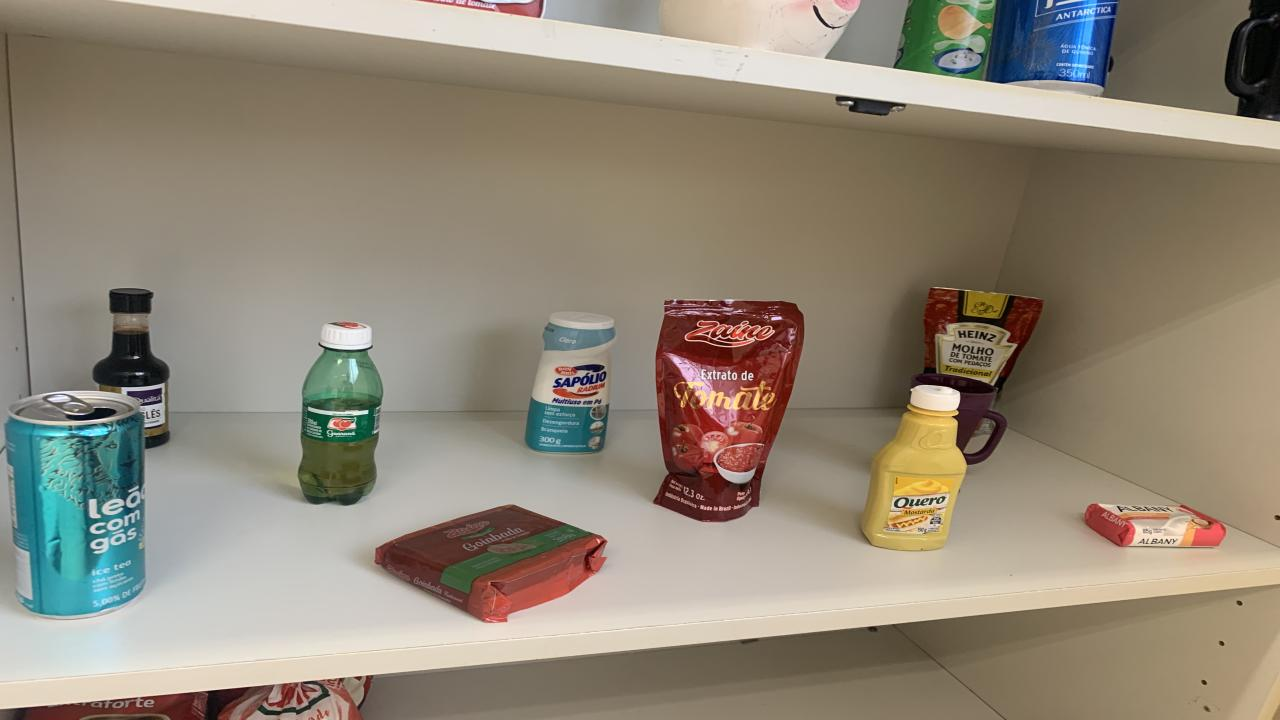Cleaner-Cleanup_Items: (525, 311, 615, 454)
English_Sauce-Pantry_Items: (92, 289, 170, 448)
Guarana-Drinks: (298, 322, 382, 504)
Guava-Snacks: (375, 504, 608, 622)
Mustard-Pantry_Items: (860, 384, 965, 551)
Pig_Safe-Miscellaneous: (658, 0, 860, 58)
Pringles-Snacks: (895, 0, 995, 81)
Soap-Cleanup_Items: (1085, 504, 1225, 548)
Tea-Drinks: (5, 392, 145, 619)
Tomato_Sauce-Pantry_Items: (655, 300, 805, 523), (925, 287, 1042, 388)
Tonic-Drinks: (988, 0, 1118, 96)
Tuna_Can-Pantry_Items: (422, 0, 545, 17)
